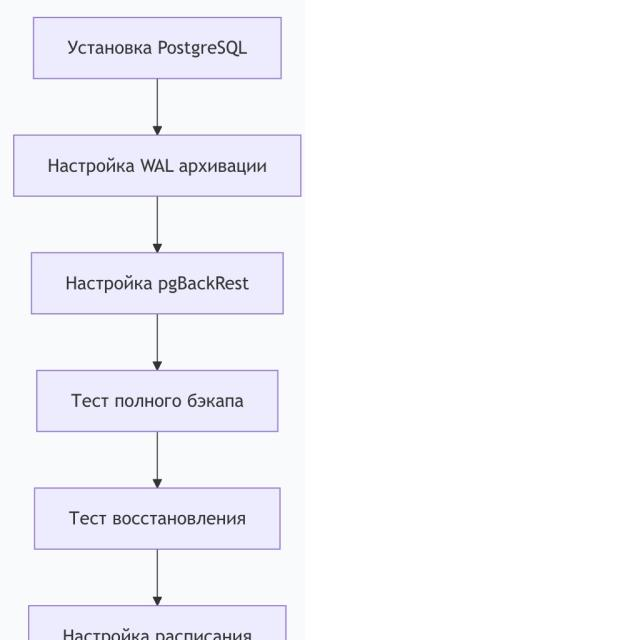arrow: (150, 315, 161, 369), (153, 197, 161, 252), (153, 79, 161, 134), (154, 432, 161, 488), (154, 550, 161, 605)
rectangle: (14, 134, 301, 196), (32, 252, 283, 314), (33, 17, 281, 79), (35, 487, 279, 549), (37, 370, 278, 432)
